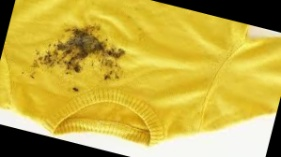earth: (39, 16, 131, 85)
